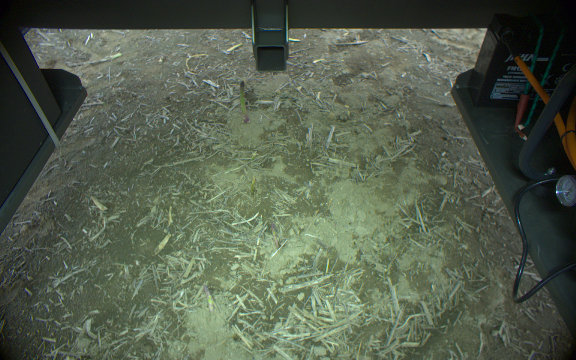aspa: (236, 79, 251, 123), (199, 283, 214, 311), (268, 221, 280, 250)
